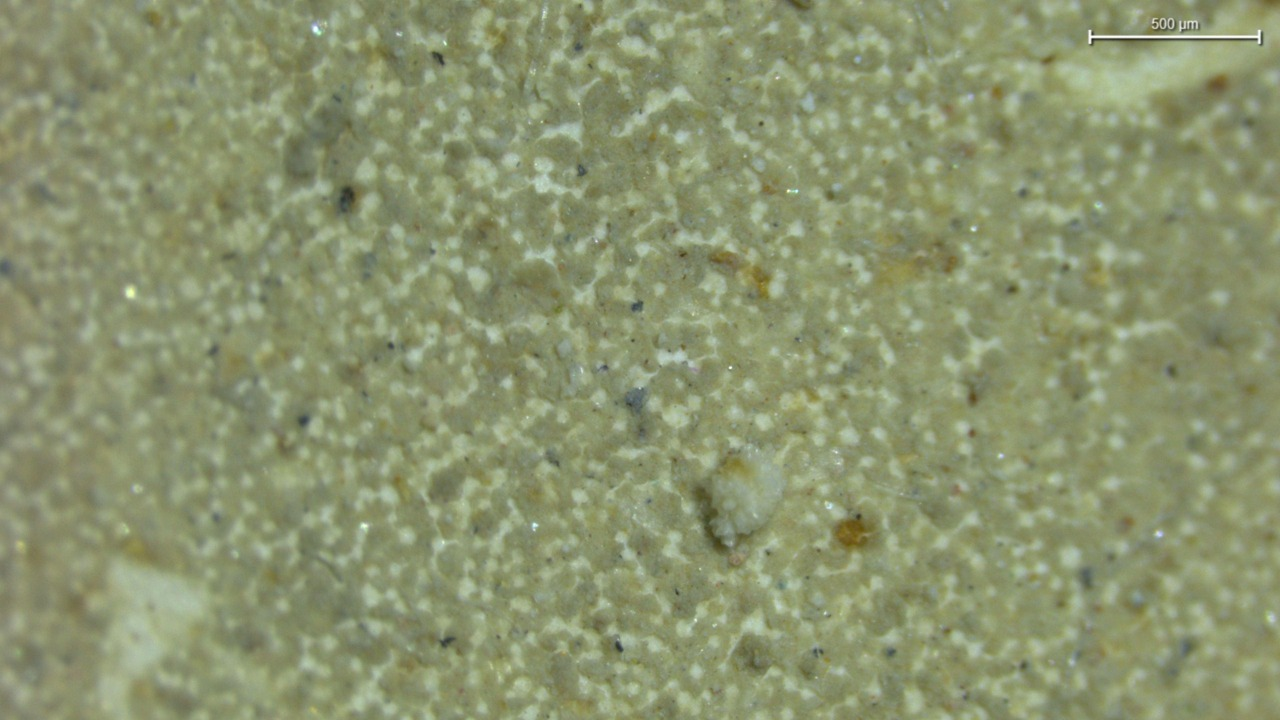microplastic_fragment: (702, 449, 784, 547)
